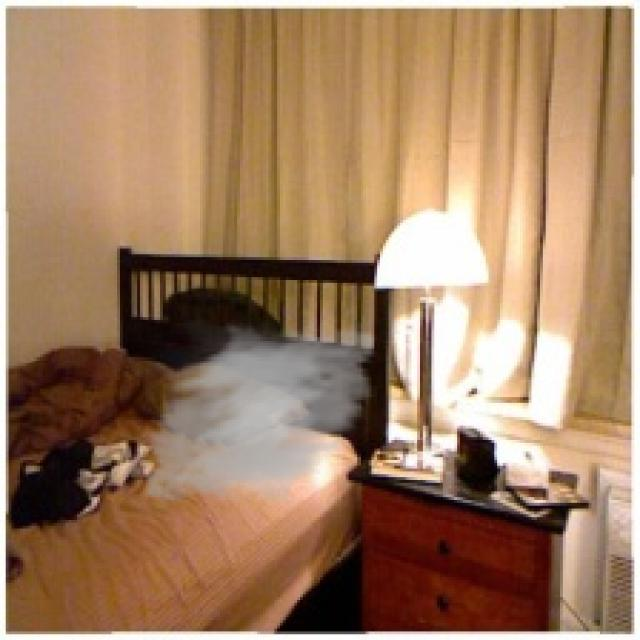smoke: (134, 309, 386, 517)
